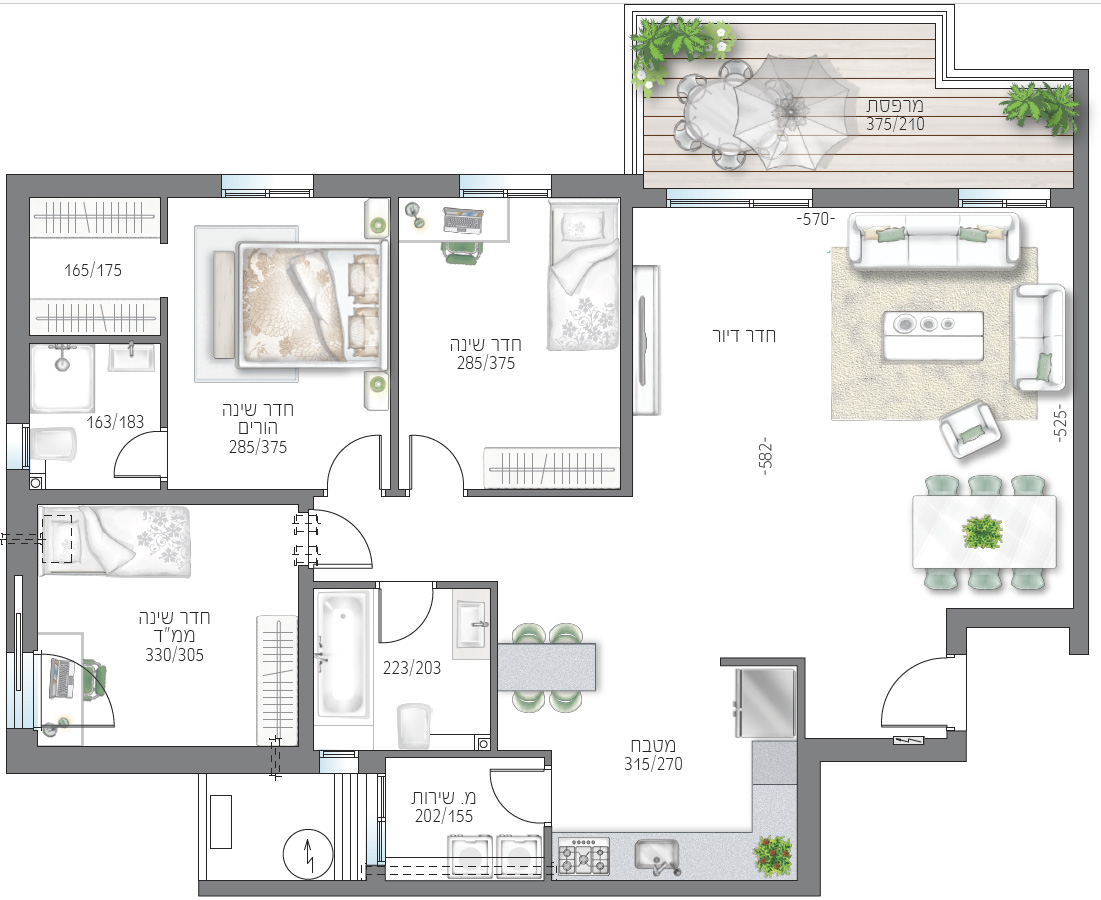door: (878, 650, 944, 736), (317, 502, 383, 573), (483, 763, 543, 832), (403, 430, 470, 488), (321, 430, 385, 488), (372, 594, 440, 646), (107, 429, 161, 483)
room: (5, 175, 399, 506), (3, 490, 312, 775), (389, 173, 634, 498), (297, 579, 497, 759)
wall: (7, 747, 312, 773), (7, 175, 29, 424), (6, 175, 220, 196), (6, 490, 312, 504), (315, 175, 459, 199), (298, 574, 314, 773)
window: (666, 188, 812, 208), (363, 775, 388, 867), (222, 175, 314, 198), (459, 175, 551, 198), (957, 188, 1050, 208), (6, 423, 30, 472), (320, 751, 359, 774)
